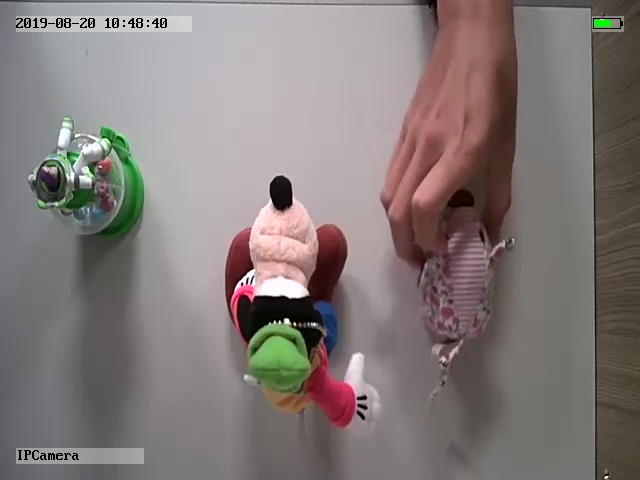buzz: (23, 116, 146, 241)
goofy: (224, 174, 382, 438)
pig: (417, 188, 518, 406)
